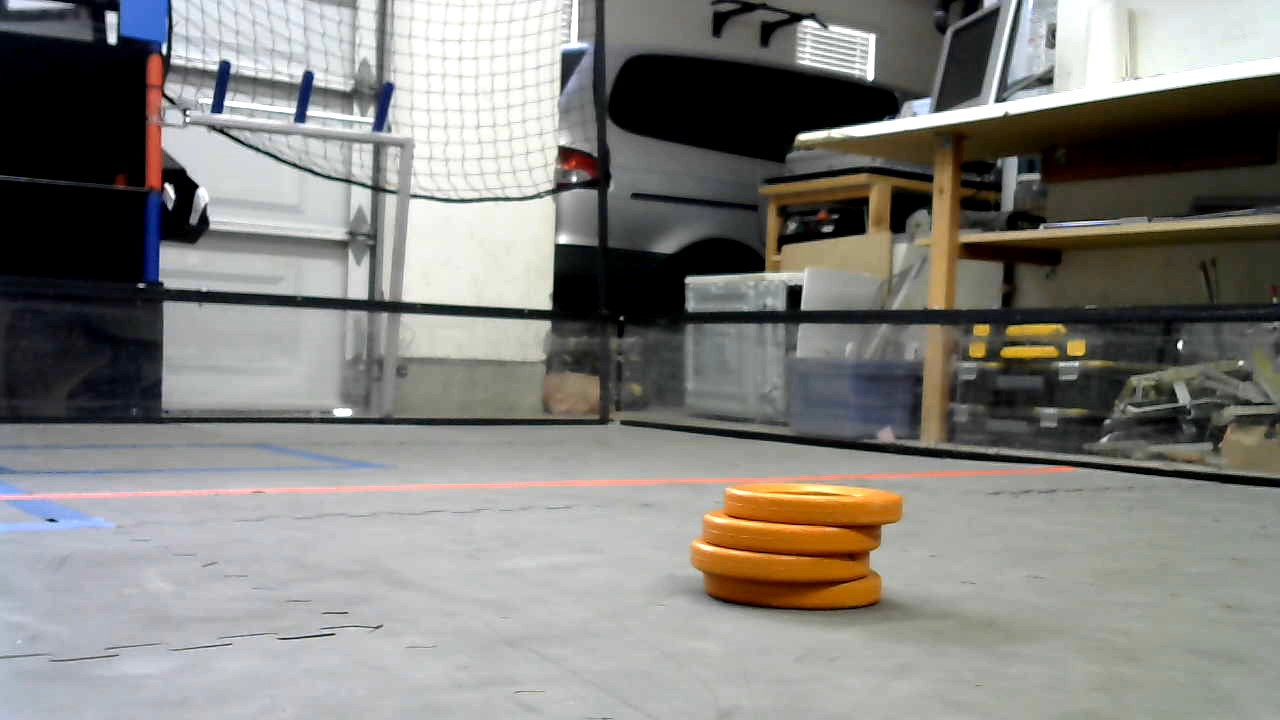FourStack: (690, 475, 906, 610)
